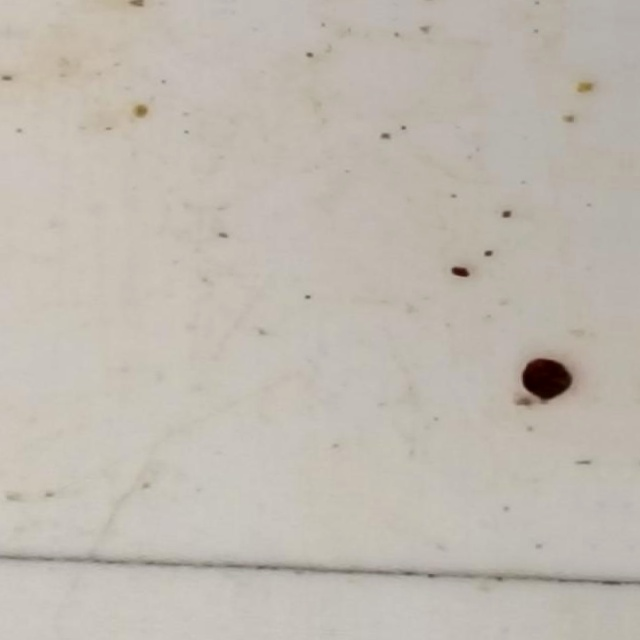varroa: (520, 356, 572, 401)
